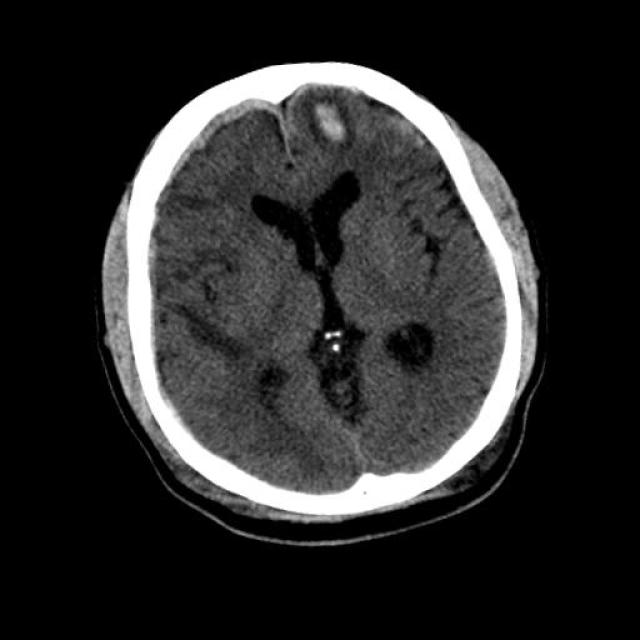Intraparenchymal: (303, 80, 372, 169), (362, 103, 437, 182)
Subdural: (155, 58, 320, 208)
